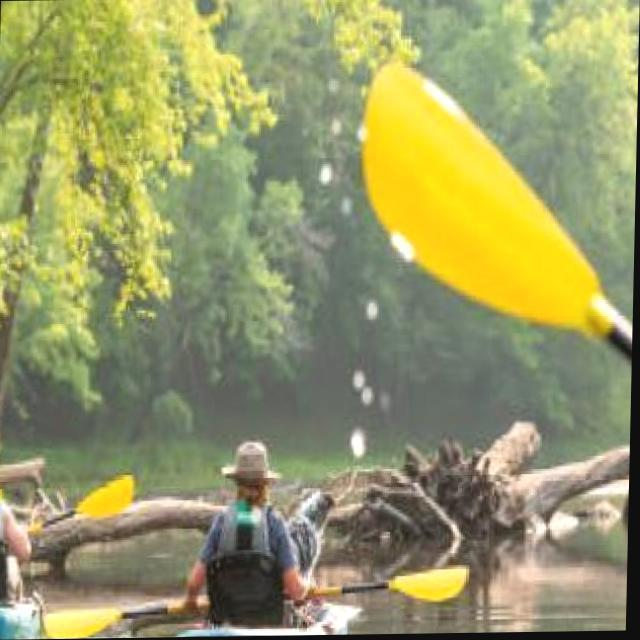kayak: (177, 606, 360, 638)
